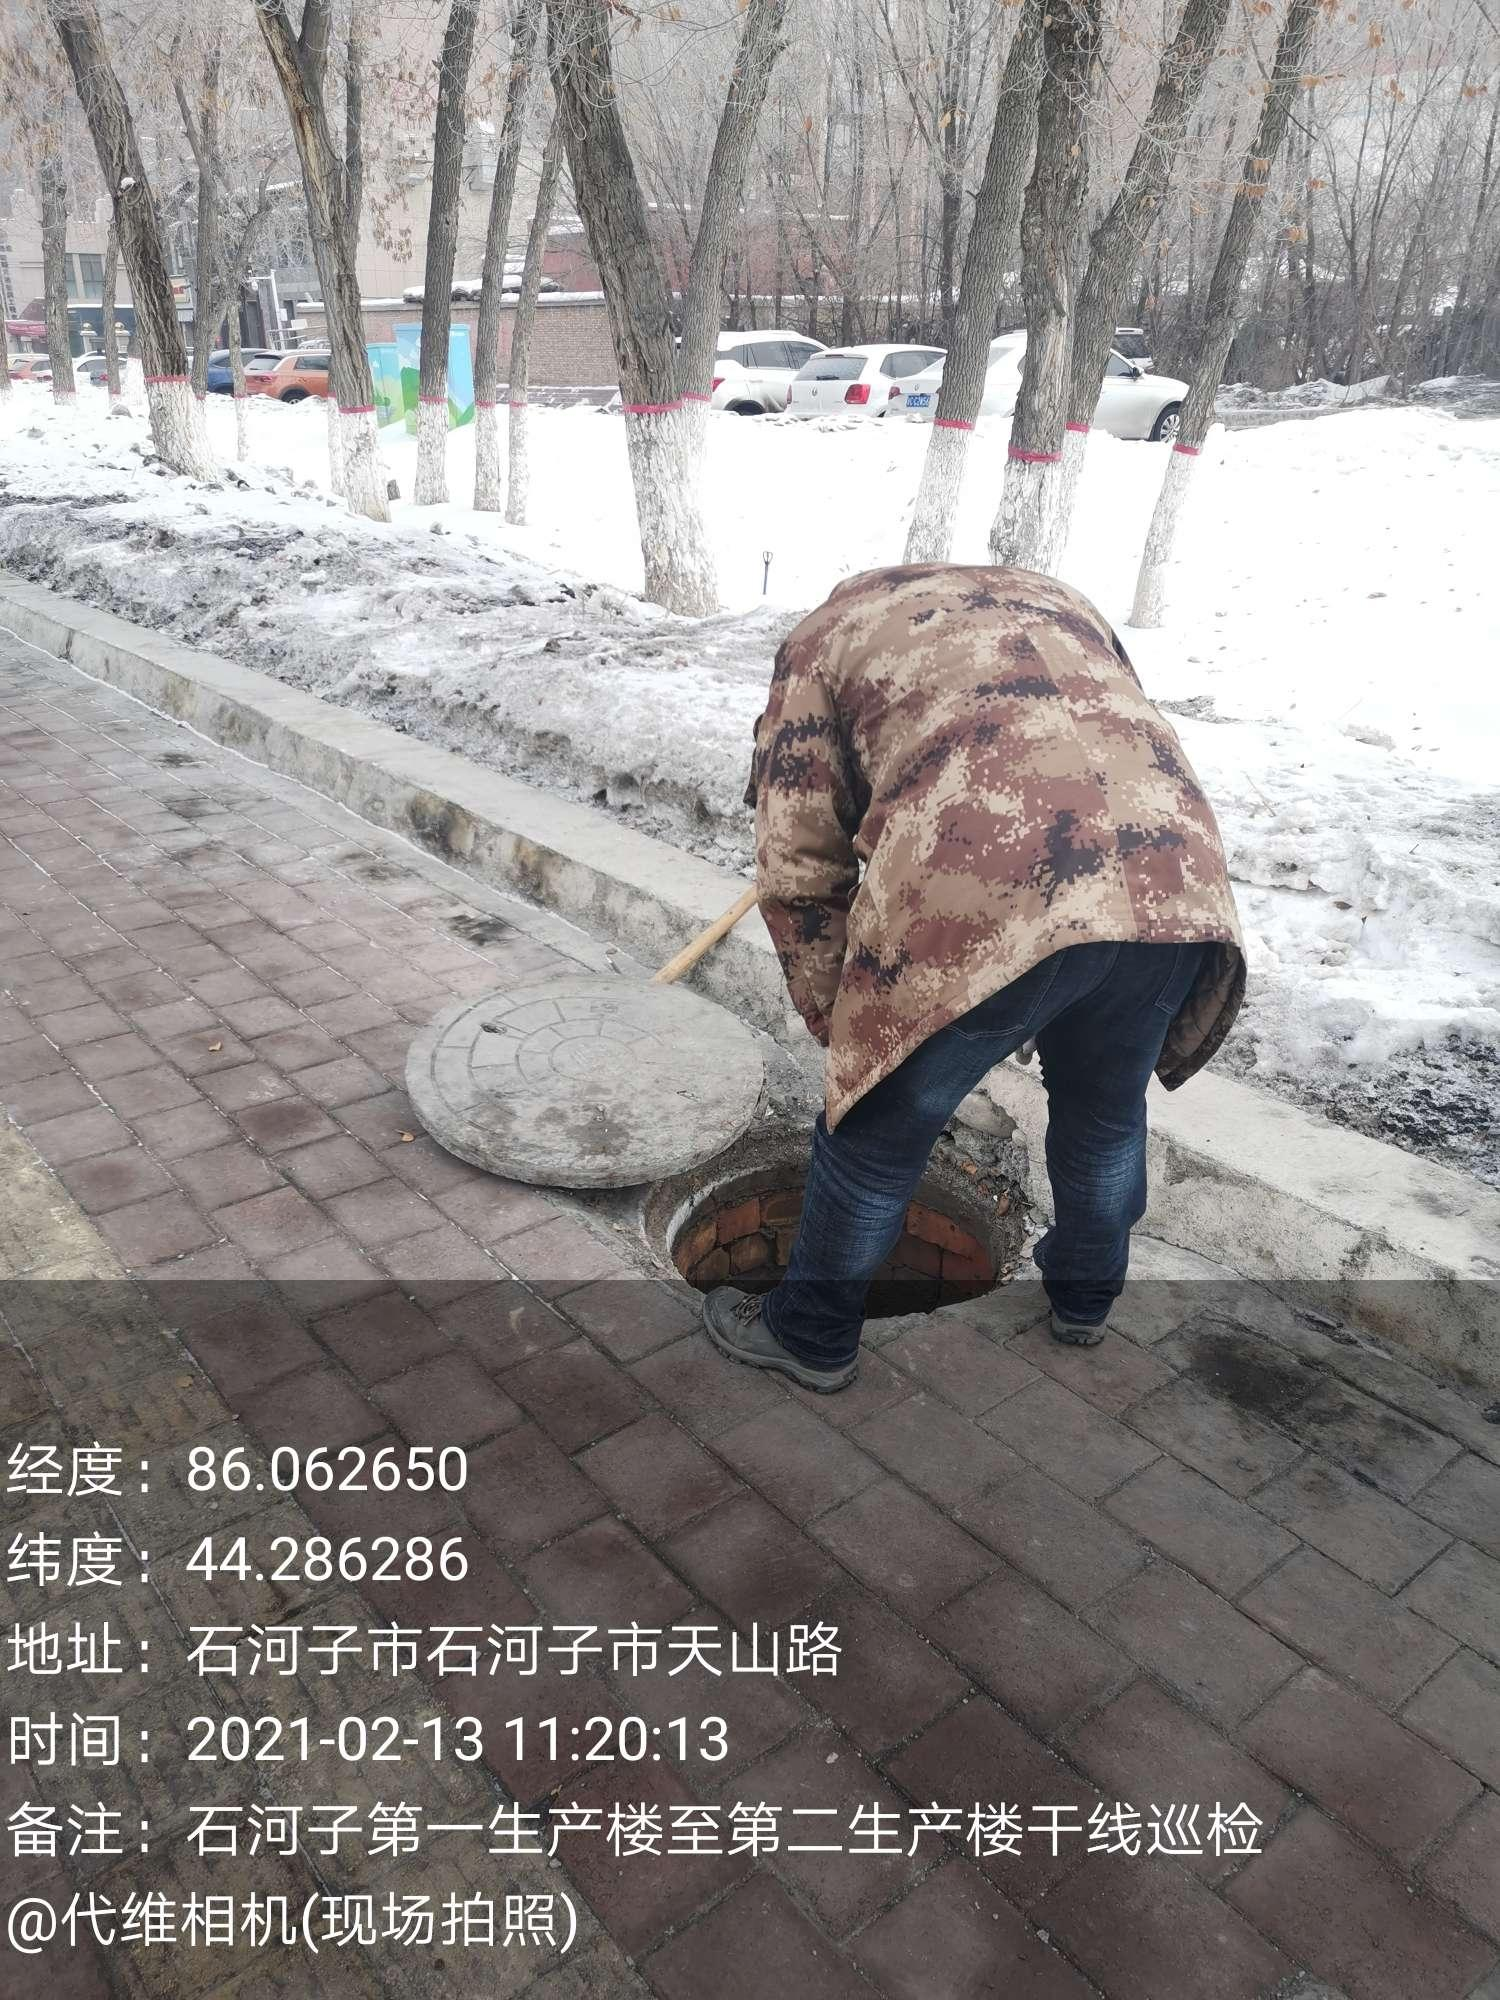wellcover: (411, 934, 1086, 1413)
